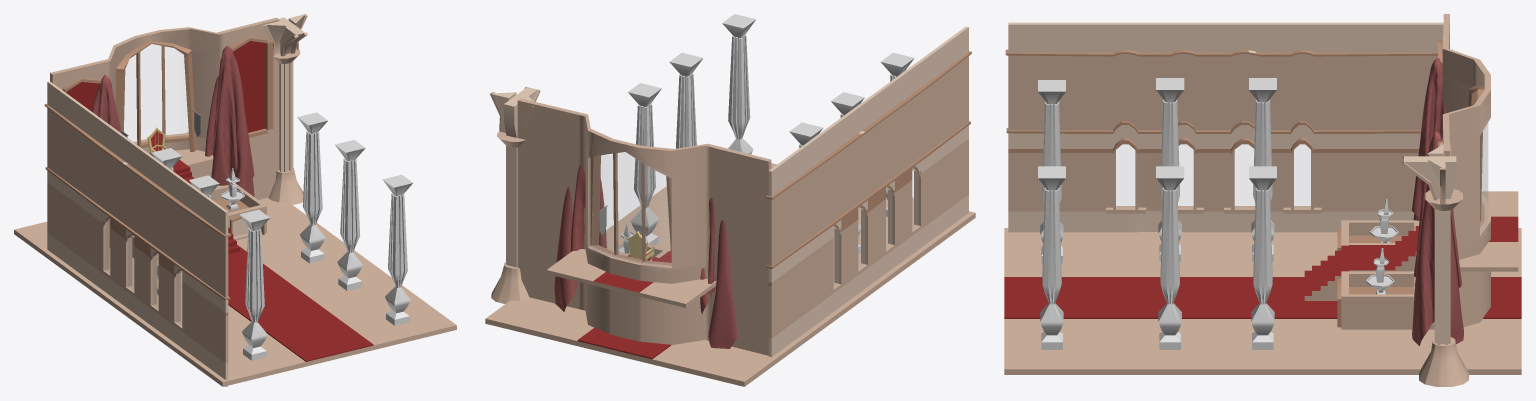
File: castle scene.fbx
3 views of the same model, side by side, from view 1: azimuth 30°, elevation 25°; view 2: azimuth 150°, elevation 25°; view 3: azimuth 270°, elevation 25° (orthographic). The views are drawn at different scales.
Parts seen in each view (by area): view 1: side_wall, ground, back_wall, right_fountain (×2), window, pillar2, pCube5, pCube4, pCube2, pCube1, stairs, left_fountain (+2 smaller); view 2: side_wall, back_wall, ground, window, pillar2, stairs, left_fountain, pCube2, right_fountain, pCube5, pCube4, pCube1 (+3 smaller); view 3: side_wall, ground, stairs, back_wall, pillar2, right_fountain (×2), pCube5, pCube2, pCube4, left_fountain (×2), pCube7, pCube6 (+6 smaller).
Part boxes in pixels (bbox=[...]): side_wall: bbox=[44, 81, 231, 386]; ground: bbox=[14, 197, 456, 386]; back_wall: bbox=[50, 17, 279, 199]; right_fountain (×2): bbox=[205, 46, 254, 210]; window: bbox=[124, 44, 187, 142]; pillar2: bbox=[260, 14, 307, 204]; pCube5: bbox=[297, 112, 327, 263]; pCube4: bbox=[335, 139, 365, 290]; pCube2: bbox=[382, 174, 412, 325]; pCube1: bbox=[239, 209, 269, 360]; stairs: bbox=[132, 132, 266, 259]; left_fountain: bbox=[92, 75, 121, 247]; side_wall: bbox=[765, 26, 971, 357]; back_wall: bbox=[517, 98, 771, 355]; ground: bbox=[485, 163, 975, 386]; window: bbox=[590, 153, 670, 271]; pillar2: bbox=[490, 86, 540, 303]; stairs: bbox=[546, 239, 716, 307]; left_fountain: bbox=[700, 198, 737, 348]; pCube2: bbox=[722, 14, 755, 154]; right_fountain: bbox=[554, 164, 606, 311]; pCube5: bbox=[628, 83, 661, 245]; pCube4: bbox=[669, 52, 703, 148]; pCube1: bbox=[880, 52, 914, 216]; side_wall: bbox=[1005, 22, 1443, 232]; ground: bbox=[1004, 228, 1521, 374]; stairs: bbox=[1304, 191, 1518, 329]; back_wall: bbox=[1437, 14, 1490, 327]; pillar2: bbox=[1402, 143, 1468, 386]; right_fountain (×2): bbox=[1366, 131, 1463, 345]; pCube5: bbox=[1249, 166, 1276, 349]; pCube2: bbox=[1038, 166, 1065, 349]; pCube4: bbox=[1156, 166, 1184, 349]; left_fountain (×2): bbox=[1370, 58, 1446, 242]; pCube7: bbox=[1156, 78, 1184, 261]; pCube6: bbox=[1249, 78, 1276, 261].
Bounding box in the file's own units: 43.16 × 30.15 × 59.81.
